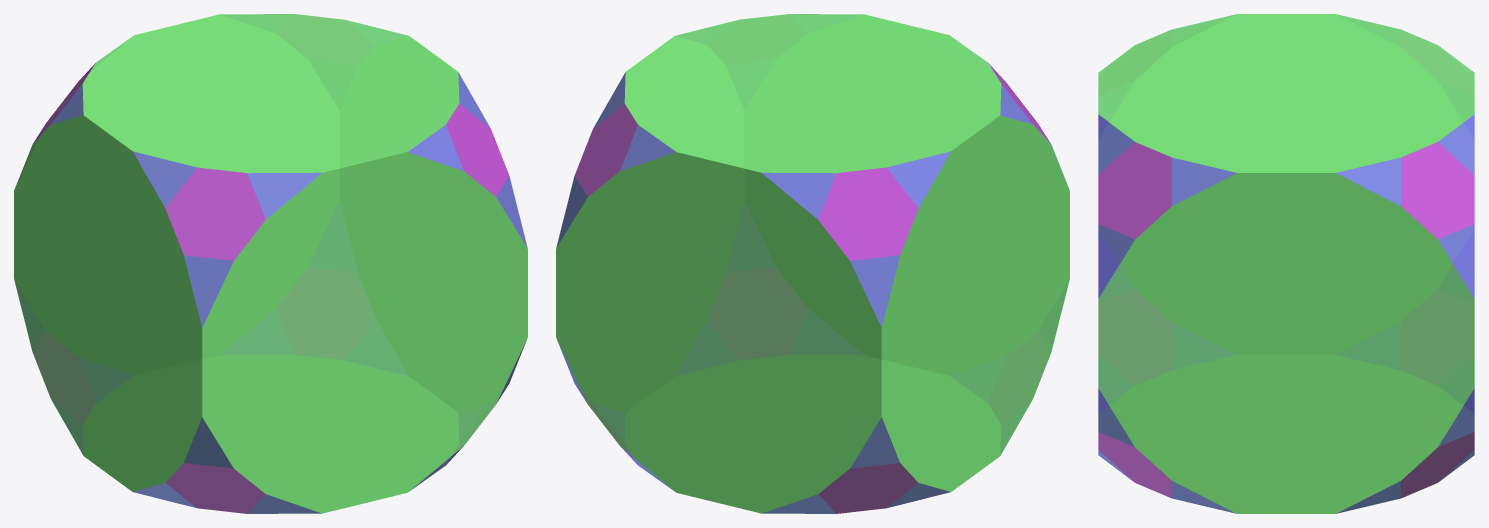
File: BiTruncatedCube.obj
3 views of the same model, side by side, from view 1: azimuth 30°, elevation 25°; view 2: azimuth 150°, elevation 25°; view 3: azimuth 270°, elevation 25° (orthographic).
Size of the model in its own units: 1.41 by 1.41 by 1.41.
